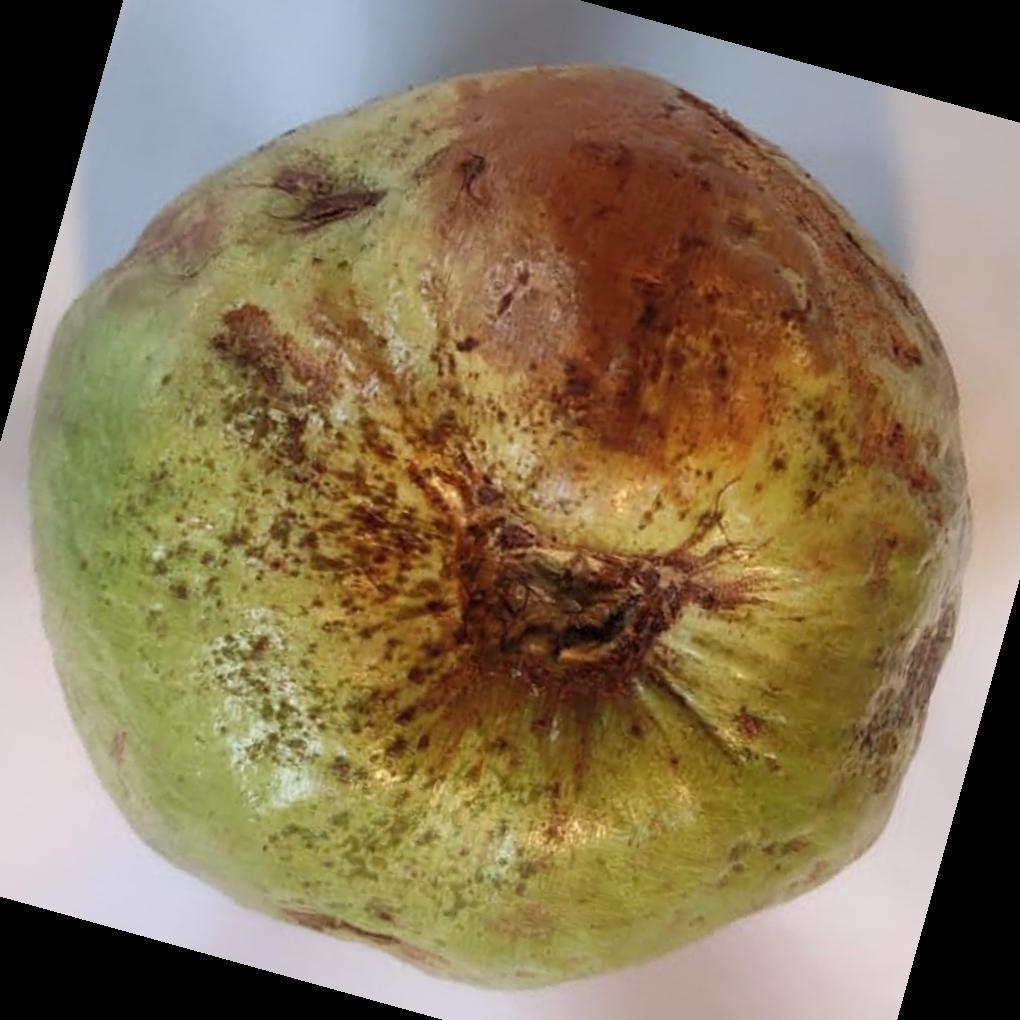FreshOrange: (27, 65, 974, 994)
